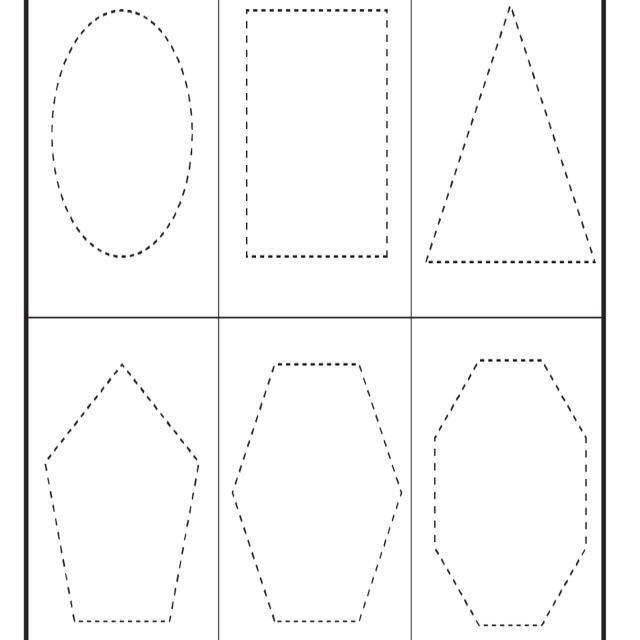circle: (32, 0, 219, 279)
square: (226, 0, 411, 281)
triangle: (403, 1, 605, 284)
